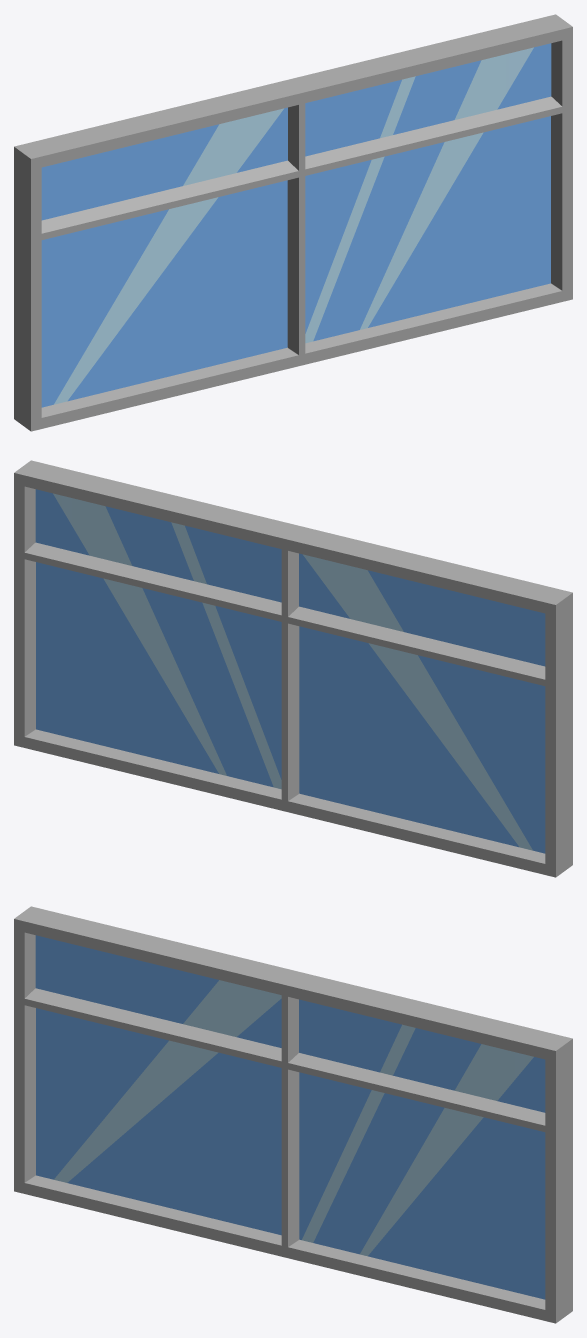
The model's file is Hall Window.fbx.
The picture shows the model from 3 angles, top to bottom: view 1: azimuth 30°, elevation 25°; view 2: azimuth 150°, elevation 25°; view 3: azimuth 330°, elevation 25°; orthographic projection.
Parts seen in each view (by area): view 1: Hall Window; view 2: Hall Window; view 3: Hall Window.
Part boxes in pixels (bbox=[...]): Hall Window: bbox=[14, 14, 572, 431]; Hall Window: bbox=[14, 460, 572, 877]; Hall Window: bbox=[14, 906, 572, 1323].
Bounding box in the file's own units: 317 × 152 × 17.3.
